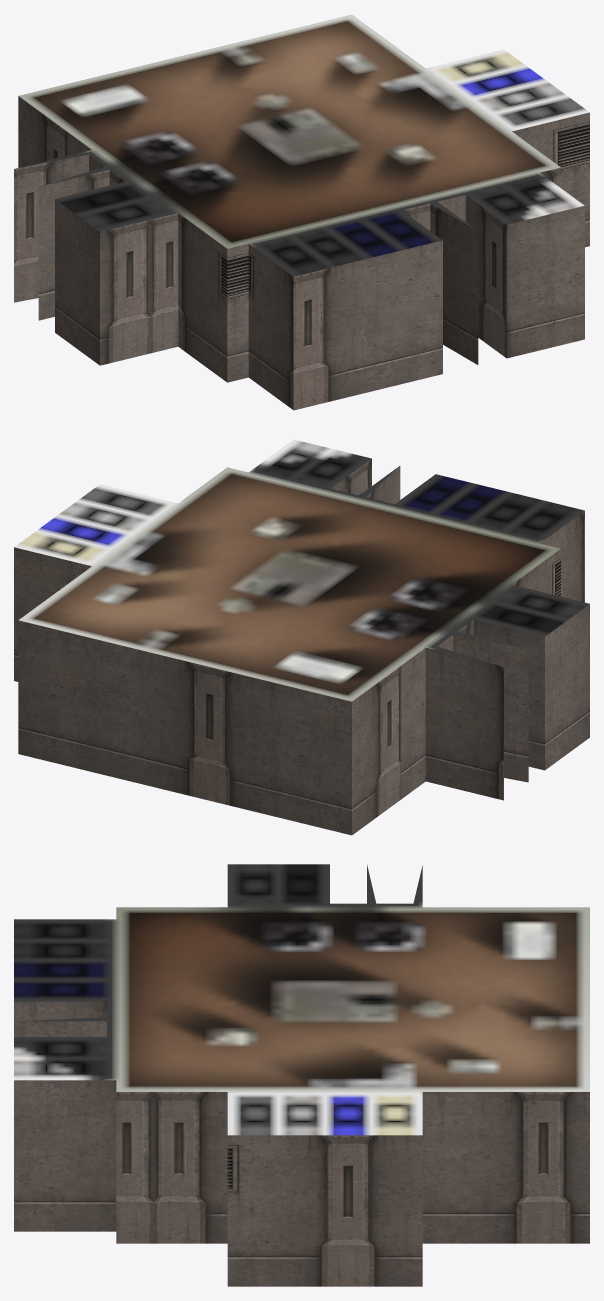
File: BuildingSystem-02-Intermediate-03-ReinforcedLow-1-098.glb
3 views of the same model, one above another, from view 1: azimuth 30°, elevation 25°; view 2: azimuth 150°, elevation 25°; view 3: azimuth 270°, elevation 25° (orthographic). The views are drawn at different scales.
Parts seen in each view (by area): view 1: buildings/saxarba/SMV_Buildings/BuildingSystem-02-Intermedia; view 2: buildings/saxarba/SMV_Buildings/BuildingSystem-02-Intermedia; view 3: buildings/saxarba/SMV_Buildings/BuildingSystem-02-Intermedia.
Part boxes in pixels (left/top/right/bottom): buildings/saxarba/SMV_Buildings/BuildingSystem-02-Intermedia: left=14, top=14, right=589, bottom=410; buildings/saxarba/SMV_Buildings/BuildingSystem-02-Intermedia: left=14, top=439, right=589, bottom=835; buildings/saxarba/SMV_Buildings/BuildingSystem-02-Intermedia: left=14, top=864, right=589, bottom=1286.
Bounding box in the file's own units: 69 × 18 × 62.
